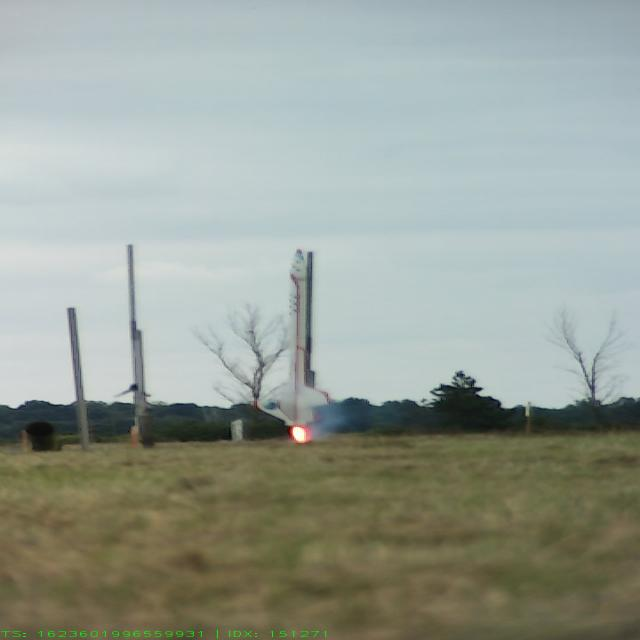Rocket: (253, 248, 333, 428)
